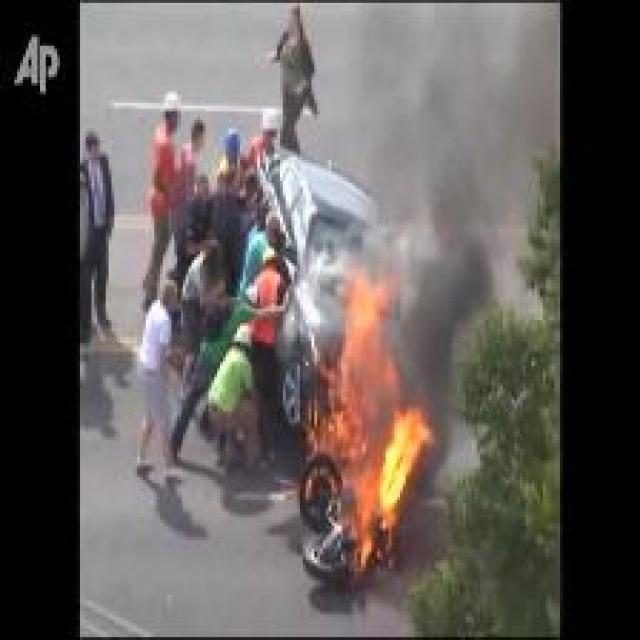Fire: (307, 267, 433, 570)
